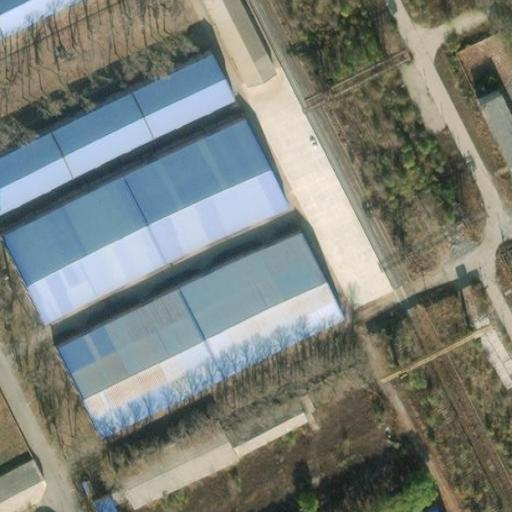building: (77, 277, 339, 435), (24, 171, 278, 322), (170, 223, 321, 339), (50, 286, 196, 399), (119, 423, 239, 511), (225, 397, 314, 456), (477, 94, 512, 172), (80, 481, 121, 512)
